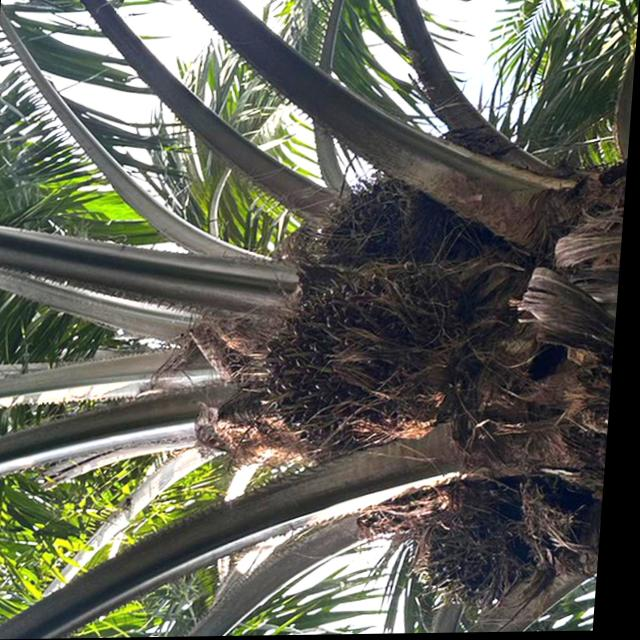unripe: (238, 248, 497, 478), (399, 455, 594, 621), (314, 121, 509, 269)
